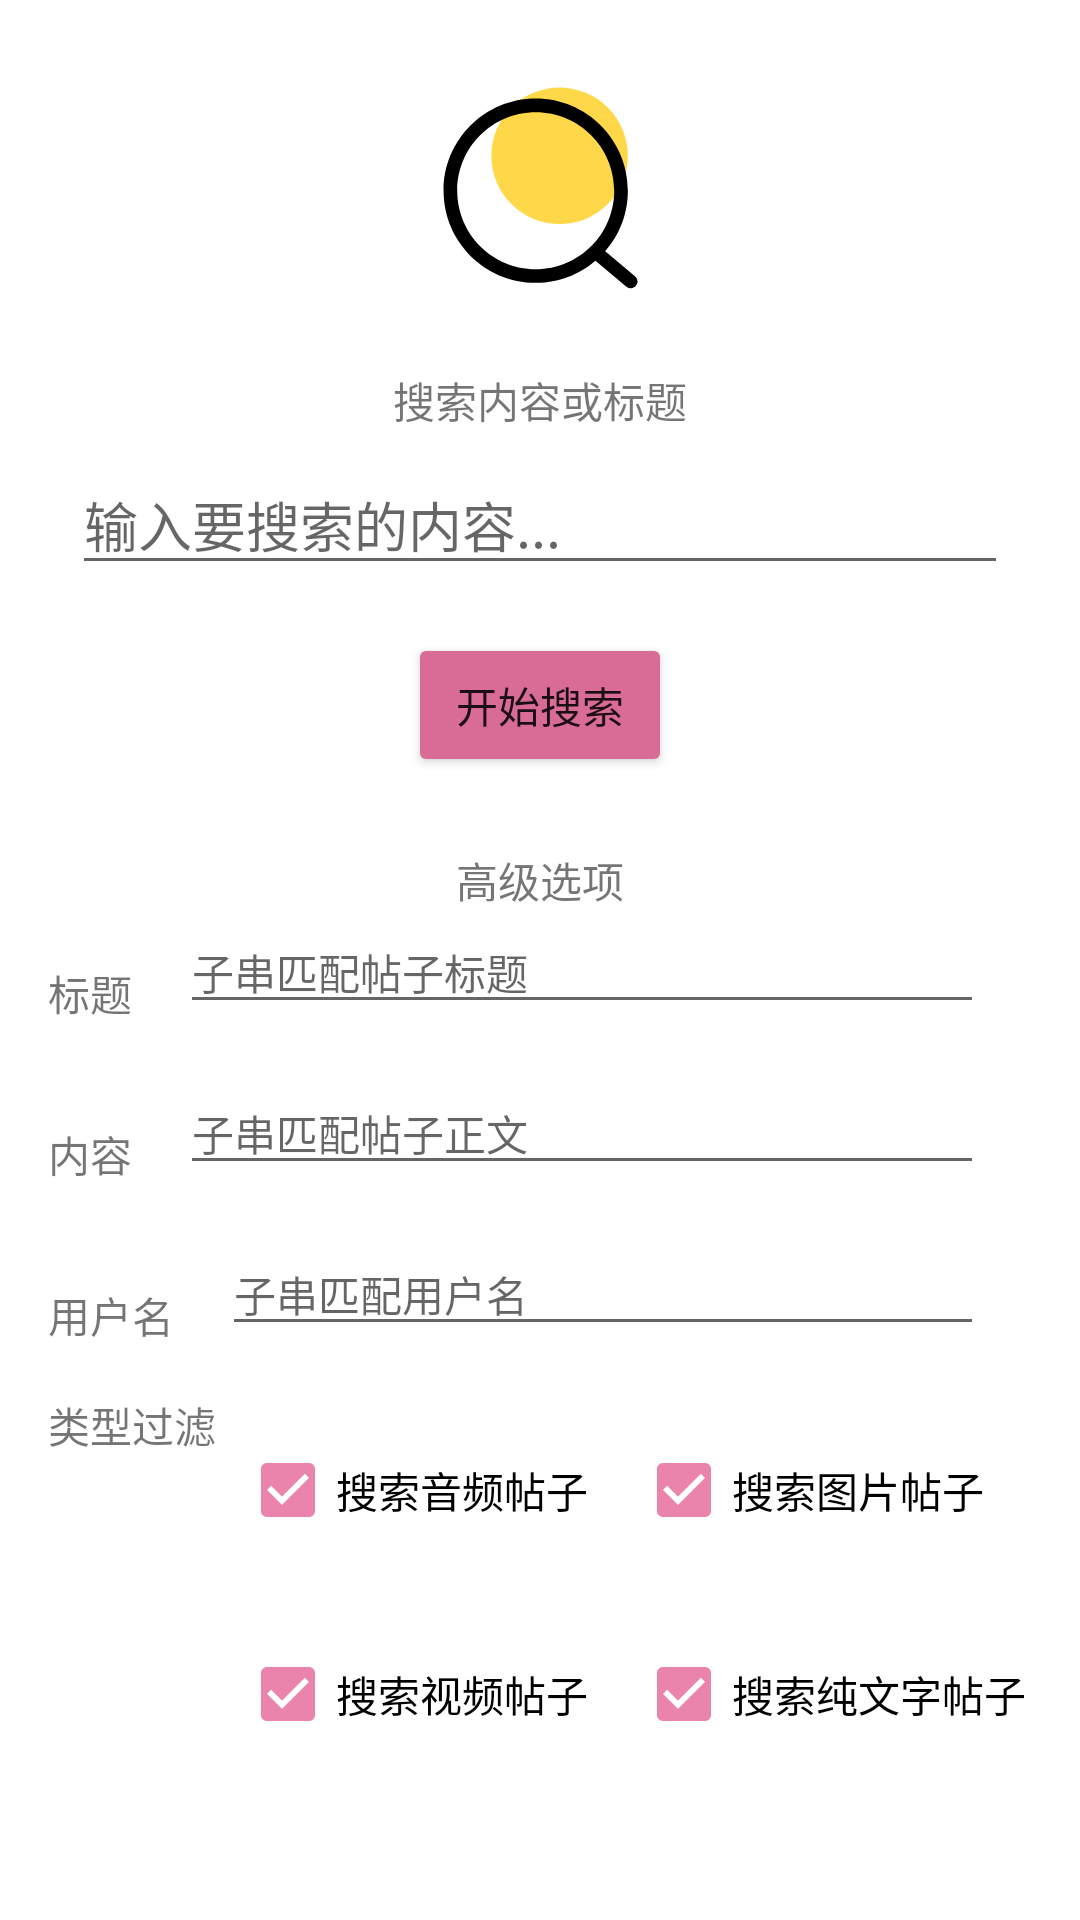

Named icons in this screenshot (1080 x 1920) and their centers, point (x, y):
search: point (540, 188)
